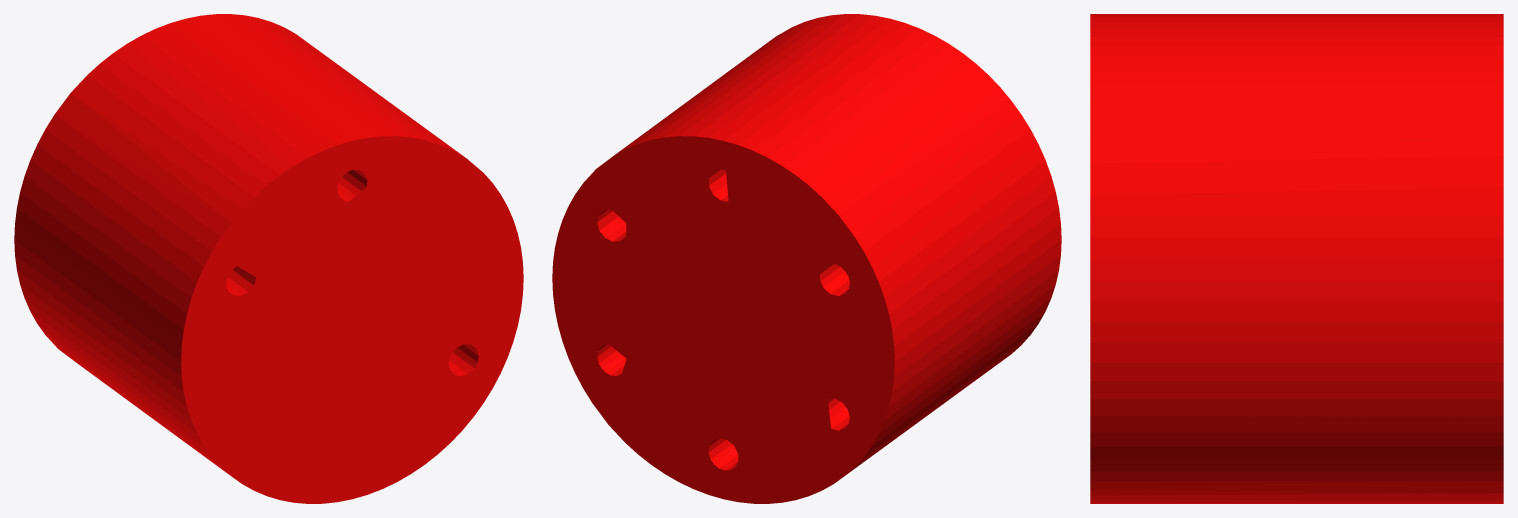
Rendered from legs_1_left_leg_1_x10_1_inner_1.glb.
3 renders of one model, left to right at view 1: azimuth 30°, elevation 25°; view 2: azimuth 150°, elevation 25°; view 3: azimuth 270°, elevation 25°, orthographic. The views are drawn at different scales.
Parts seen in each view (by area): view 1: legs_1_left_leg_1_x10_1_inner_1.obj; view 2: legs_1_left_leg_1_x10_1_inner_1.obj; view 3: legs_1_left_leg_1_x10_1_inner_1.obj.
Part boxes in pixels (x1,y1,x2,y2): legs_1_left_leg_1_x10_1_inner_1.obj: (14, 14, 523, 503); legs_1_left_leg_1_x10_1_inner_1.obj: (552, 14, 1061, 503); legs_1_left_leg_1_x10_1_inner_1.obj: (1090, 14, 1503, 503).
Size of the model in its own units: 0.048 by 0.048 by 0.0405.
